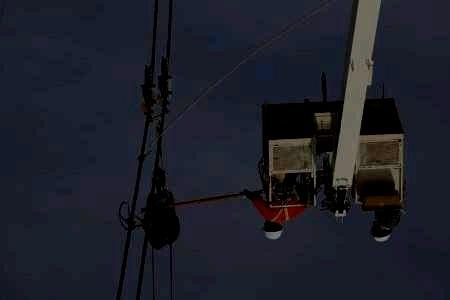helmet: (261, 219, 285, 240), (370, 224, 391, 242)
